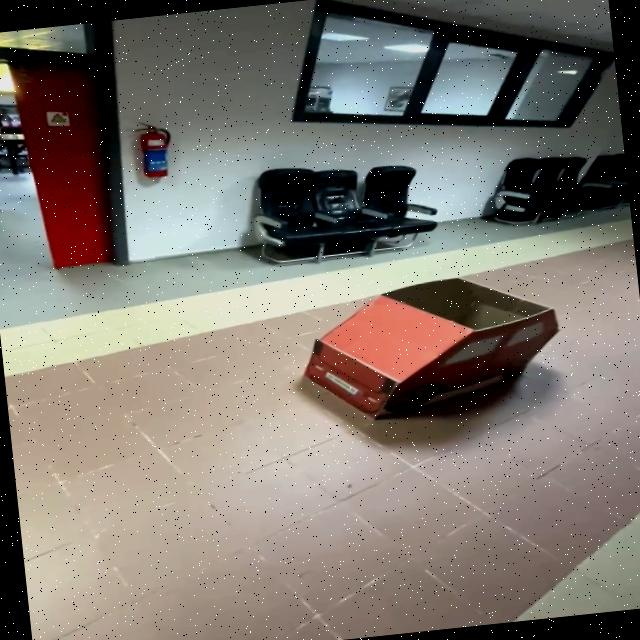red_car: (269, 253, 581, 456)
